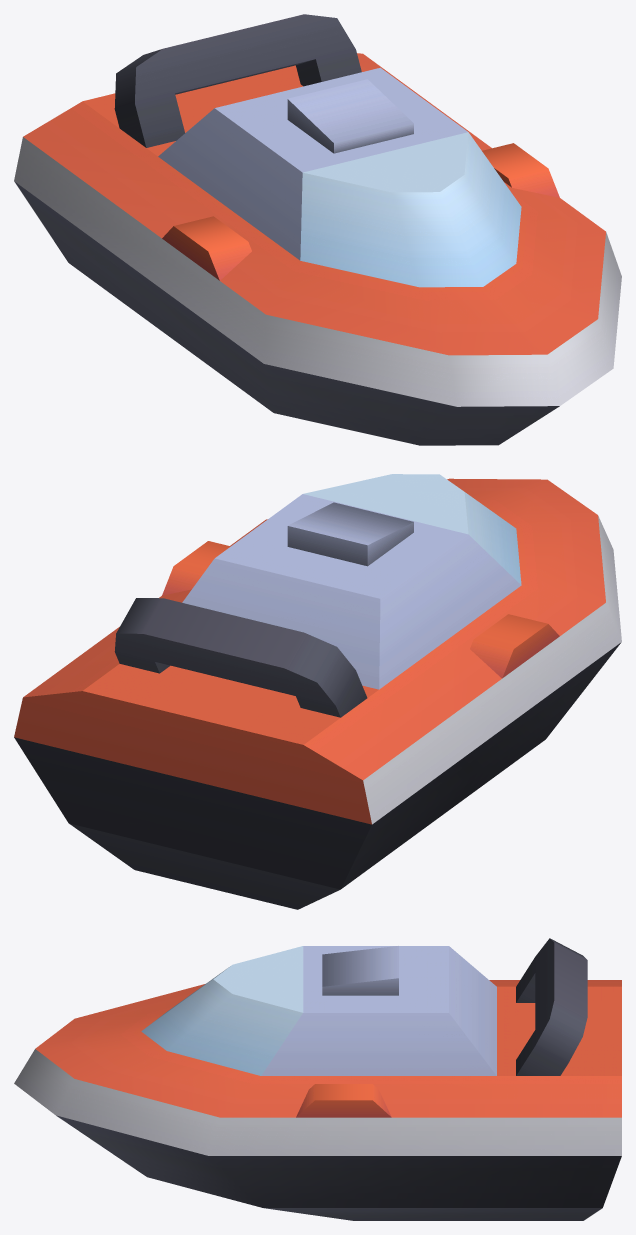
Rendered from boat-speed-c-transformed.glb.
3 views of the same model, one above another, from view 1: azimuth 30°, elevation 25°; view 2: azimuth 150°, elevation 25°; view 3: azimuth 270°, elevation 25° (orthographic). The views are drawn at different scales.
Visible parts, largest first — view 1: boat-speed-c; view 2: boat-speed-c; view 3: boat-speed-c.
Part boxes in pixels (bbox=[...]): boat-speed-c: bbox=[14, 14, 621, 445]; boat-speed-c: bbox=[14, 474, 621, 909]; boat-speed-c: bbox=[14, 938, 621, 1220].
Size of the model in its own units: 1.78 by 1.3 by 3.17.
1 material, 1 textured.
